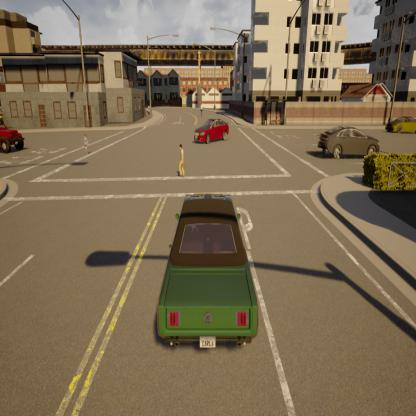Cars: (147, 186, 265, 358), (314, 121, 385, 164), (0, 107, 28, 159), (193, 114, 233, 148), (387, 113, 416, 134)
Pedestrian: (173, 140, 188, 182), (80, 131, 92, 158)
